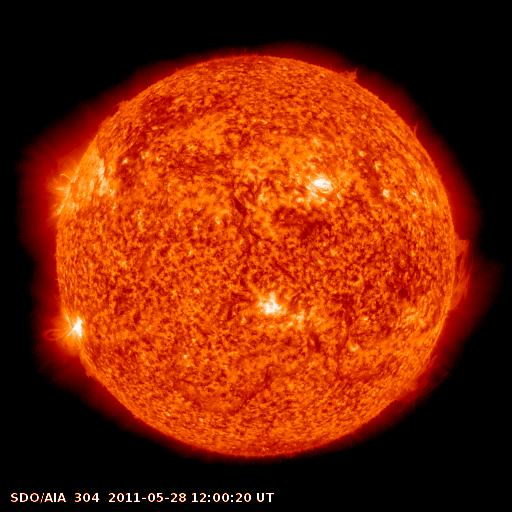prominence: (441, 228, 480, 315), (394, 346, 446, 411), (332, 53, 368, 90)
